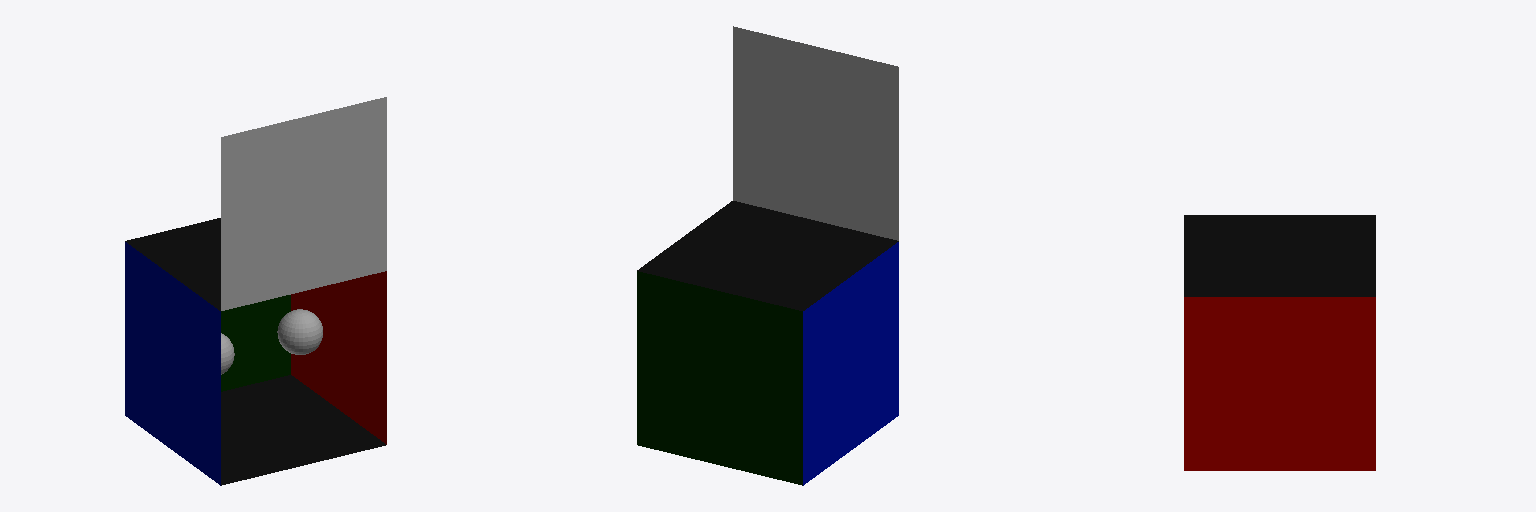
Rendered from tr_and_ref.obj.
The picture shows the model from 3 angles: view 1: azimuth 30°, elevation 25°; view 2: azimuth 150°, elevation 25°; view 3: azimuth 270°, elevation 25°; orthographic projection.
Parts seen in each view (by area): view 1: Plane.002, Plane.004, Plane, Plane.005, Plane.003, Plane.001, Sphere.004; view 2: Plane.002, Plane.003, Plane.004, Plane.001; view 3: Plane.005, Plane.001.
Boxes of the visible parts, box(x1,y1,x2,y2) form: Plane.002: box(221, 97, 386, 310); Plane.004: box(125, 242, 220, 485); Plane: box(221, 375, 385, 485); Plane.005: box(291, 271, 386, 444); Plane.003: box(221, 295, 290, 391); Plane.001: box(125, 218, 220, 310); Sphere.004: box(277, 309, 322, 354); Plane.002: box(733, 26, 898, 240); Plane.003: box(637, 271, 802, 485); Plane.004: box(803, 242, 898, 485); Plane.001: box(637, 201, 898, 310); Plane.005: box(1184, 297, 1375, 470); Plane.001: box(1184, 215, 1375, 296).
Size of the model in its own units: 30 by 60 by 30.